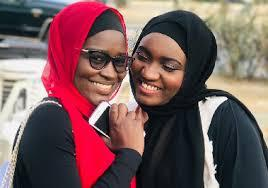No Mask: (74, 24, 133, 117), (130, 28, 191, 117)
